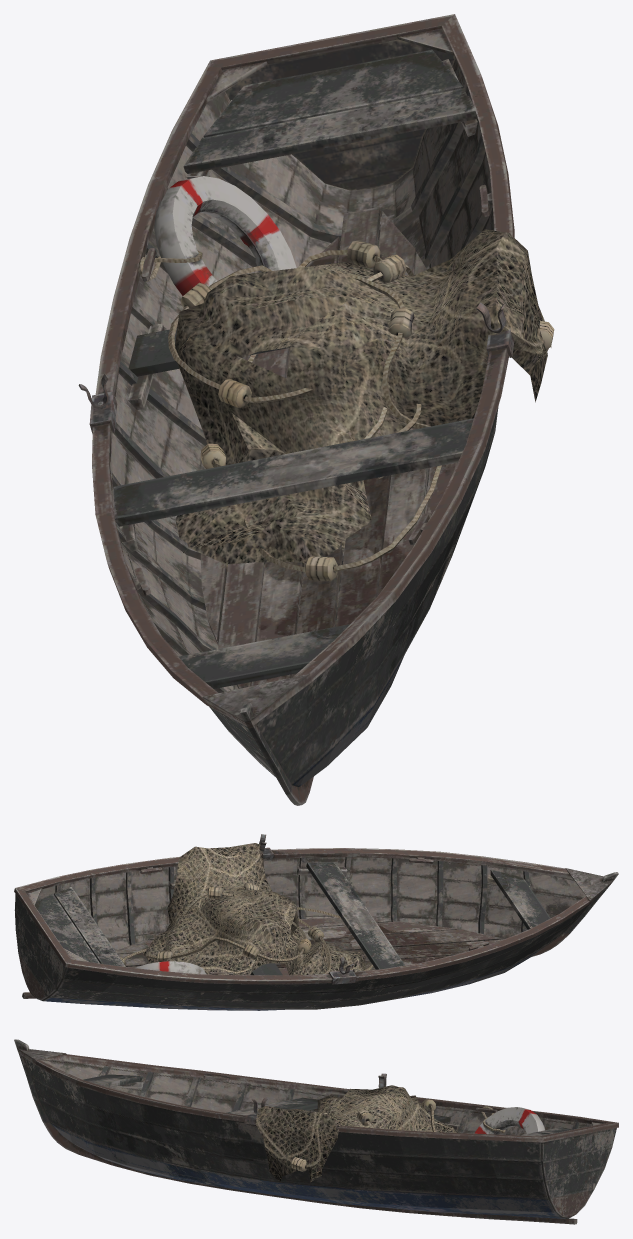
The model's file is ItemSpot.fbx.
The picture shows the model from 3 angles, top to bottom: view 1: azimuth 30°, elevation 25°; view 2: azimuth 150°, elevation 25°; view 3: azimuth 270°, elevation 25°; orthographic projection. The views are drawn at different scales.
Visible parts, largest first — view 1: ItemBox_Boat; view 2: ItemBox_Boat; view 3: ItemBox_Boat.
Part boxes in pixels (<box>): ItemBox_Boat: <box>78,14,554,805</box>; ItemBox_Boat: <box>14,834,618,1010</box>; ItemBox_Boat: <box>14,1039,618,1224</box>.
Size of the model in its own units: 4.4 by 1.88 by 6.08.
1 material, 1 textured.
